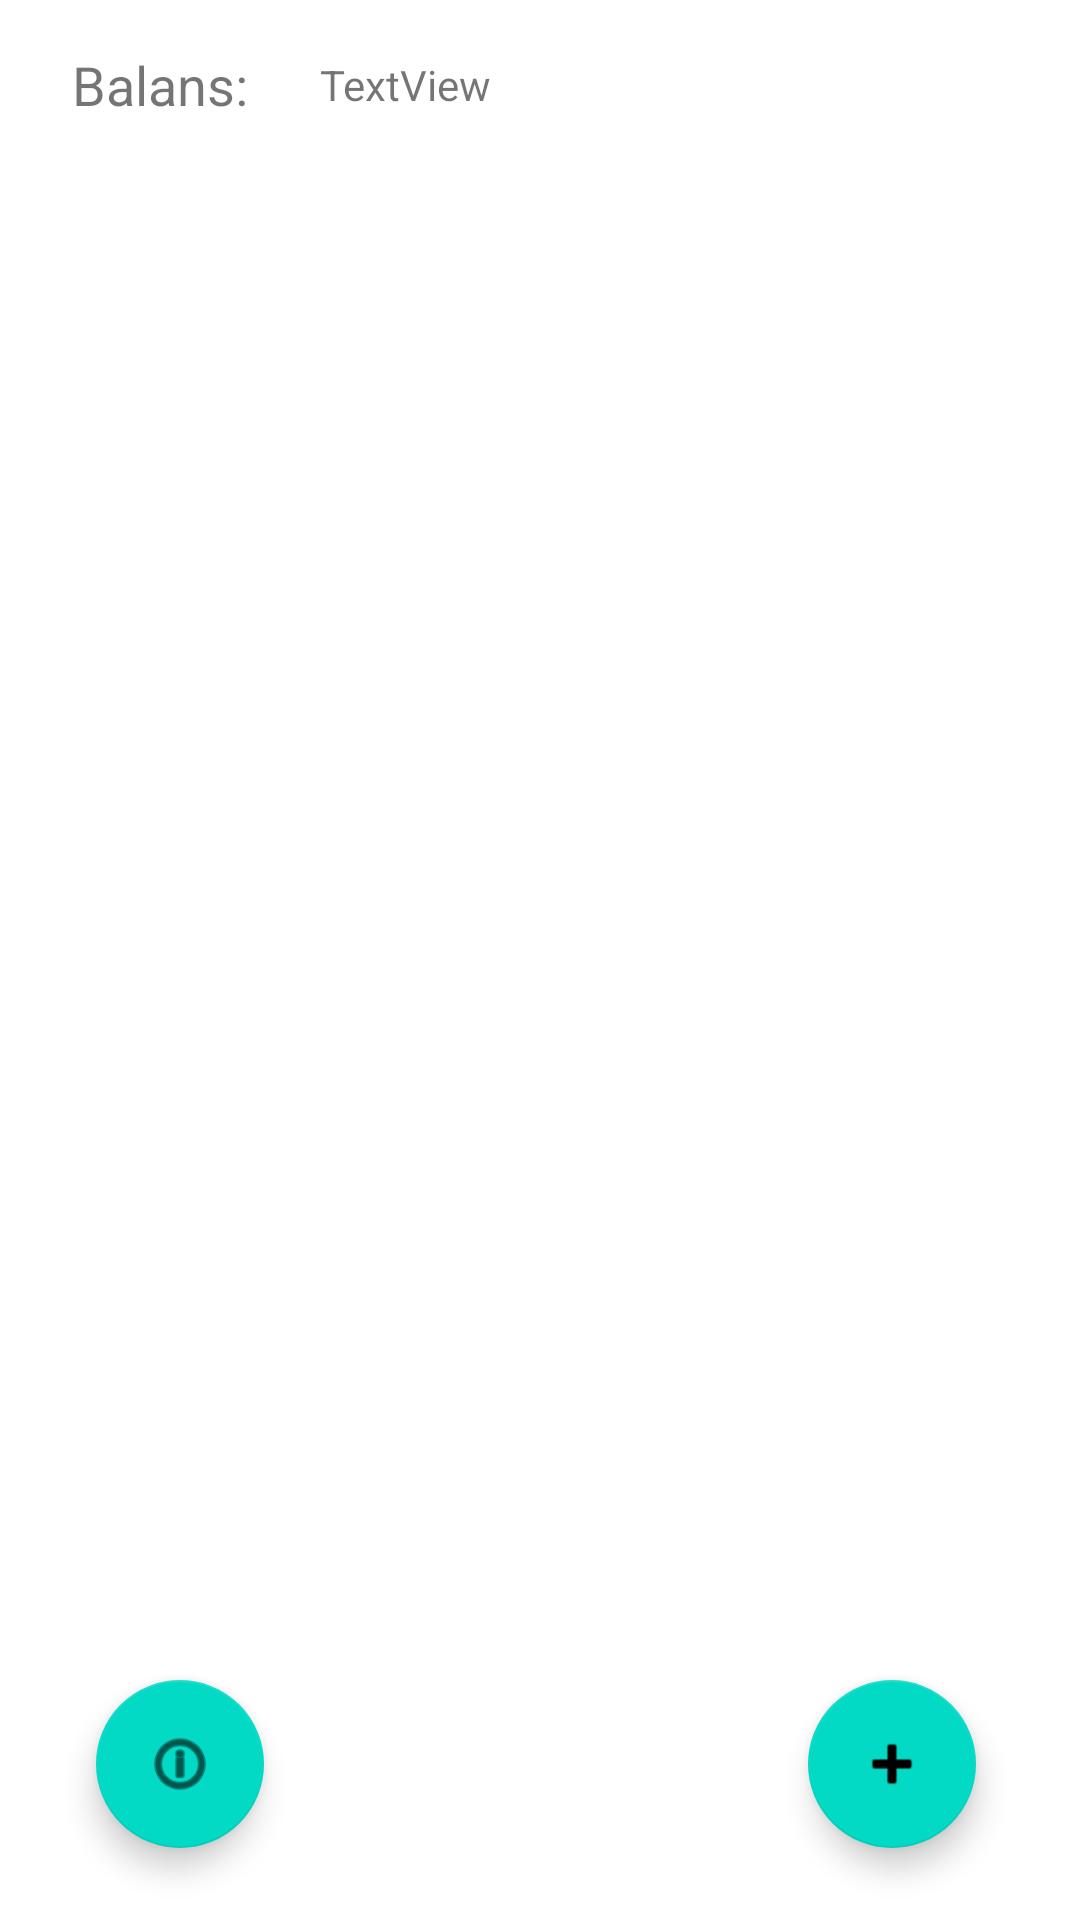

Where icons sit on this 1080px×1920px app screen, as BBox(x1, y1, x2, y2):
add: BBox(808, 1680, 976, 1848)
info details: BBox(96, 1680, 264, 1848)
